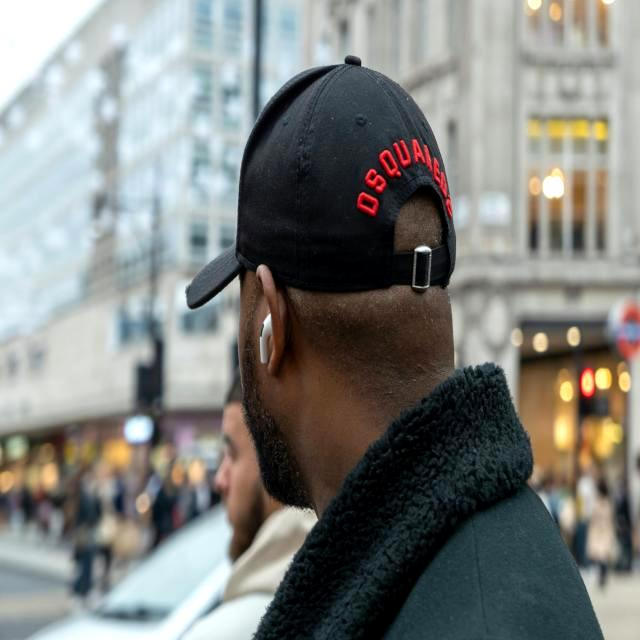no_hard_hat: (186, 56, 455, 309)
person: (187, 56, 603, 640)
